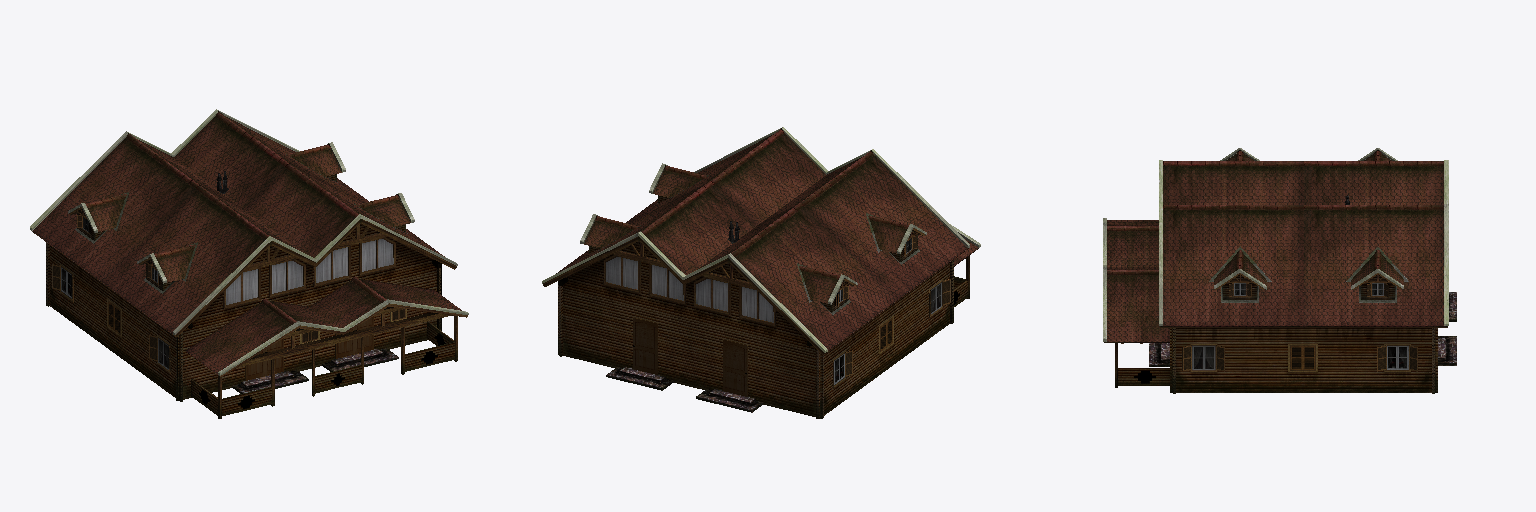
3 views of the same model, side by side, from view 1: azimuth 30°, elevation 25°; view 2: azimuth 150°, elevation 25°; view 3: azimuth 270°, elevation 25° (orthographic).
Parts seen in each view (by area): view 1: City_building_004.001; view 2: City_building_004.001; view 3: City_building_004.001.
Part boxes in pixels (x1,y1,x2,y2): City_building_004.001: (30,109,468,418); City_building_004.001: (542,127,980,418); City_building_004.001: (1103,148,1456,393).
Size of the model in its own units: 2.37 by 1.18 by 2.57.
1 materials, 1 textured.